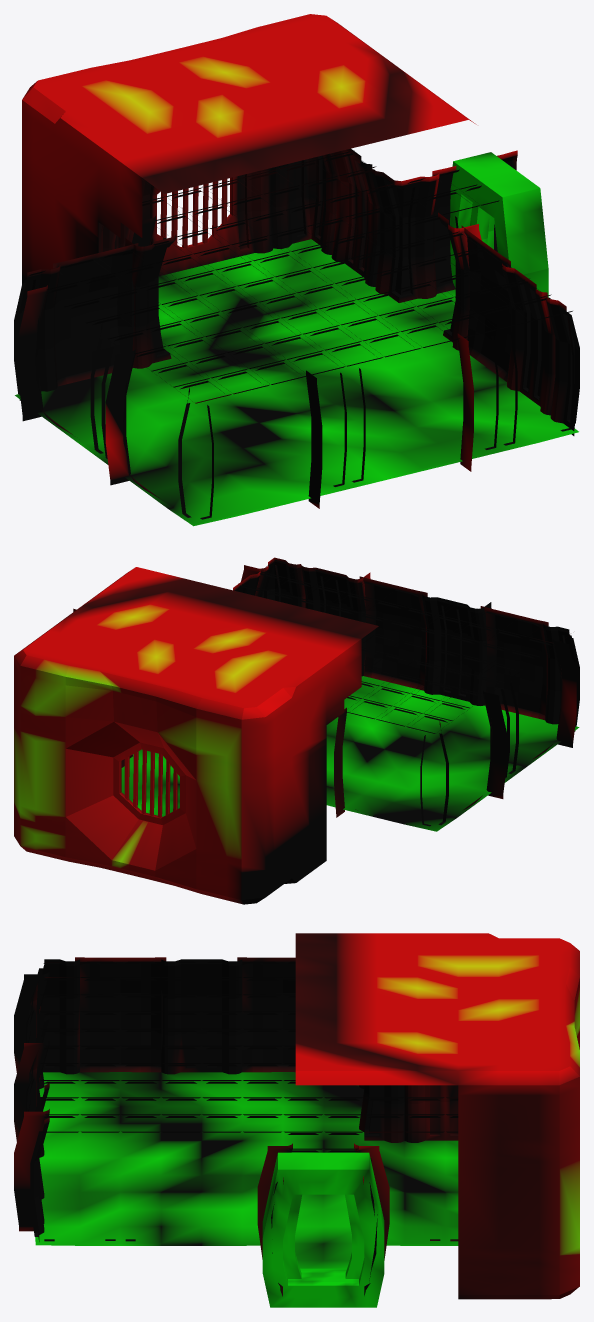
The model's file is control_room.glb.
3 renders of one model, top to bottom at view 1: azimuth 30°, elevation 25°; view 2: azimuth 150°, elevation 25°; view 3: azimuth 270°, elevation 25°, orthographic. The views are drawn at different scales.
Parts seen in each view (by area): view 1: Control_Room_Wall_Panels, Control_Room_Floor, Control_Room_Stone_Wall, Control_Room_Ceiling, Control_Room_Doorframe; view 2: Control_Room_Wall_Panels, Control_Room_Floor, Control_Room_Stone_Wall, Control_Room_Ceiling; view 3: Control_Room_Wall_Panels, Control_Room_Floor, Control_Room_Stone_Wall, Control_Room_Doorframe, Control_Room_Ceiling.
Boxes of the visible parts, x1,y1,x2,y2 form: Control_Room_Wall_Panels: (14,14,579,519); Control_Room_Floor: (15,239,578,526); Control_Room_Stone_Wall: (35,150,517,498); Control_Room_Ceiling: (22,150,572,403); Control_Room_Doorframe: (450,152,548,297); Control_Room_Wall_Panels: (14,557,579,904); Control_Room_Floor: (121,676,579,831); Control_Room_Stone_Wall: (73,576,562,810); Control_Room_Ceiling: (236,560,569,733); Control_Room_Wall_Panels: (14,933,579,1299); Control_Room_Floor: (35,1072,458,1268); Control_Room_Stone_Wall: (26,957,377,1296); Control_Room_Doorframe: (262,1152,384,1307); Control_Room_Ceiling: (40,961,458,1152).
Size of what is drawn, in the model's own units: 13.75 by 6.2 by 13.94.
